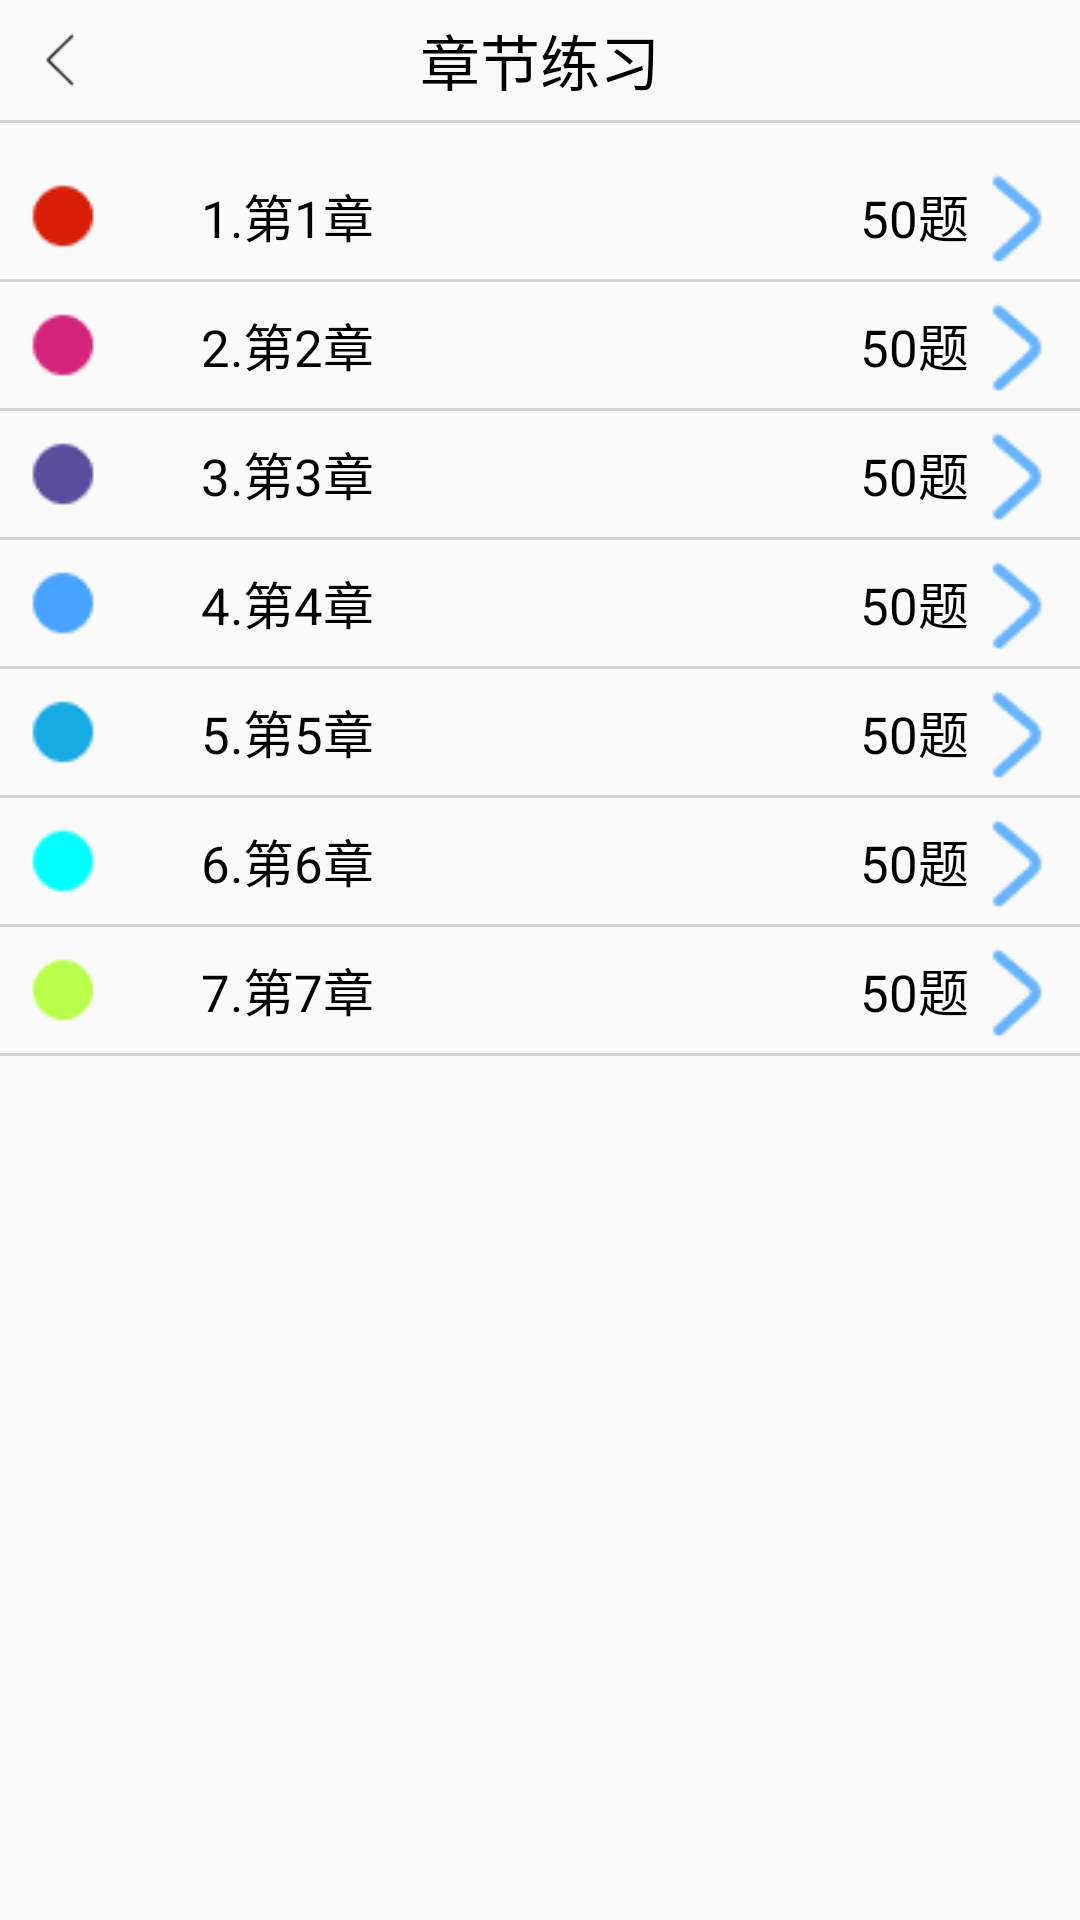

Icon click points for this 1080w x 1920h phone screenshot, format point (x, y):
if fanhui: point (60, 59)
if qingse: point (63, 861)
if right: point (1017, 218), point (1017, 347), point (1017, 476), point (1017, 605), point (1017, 734), point (1017, 863), point (1017, 992)
